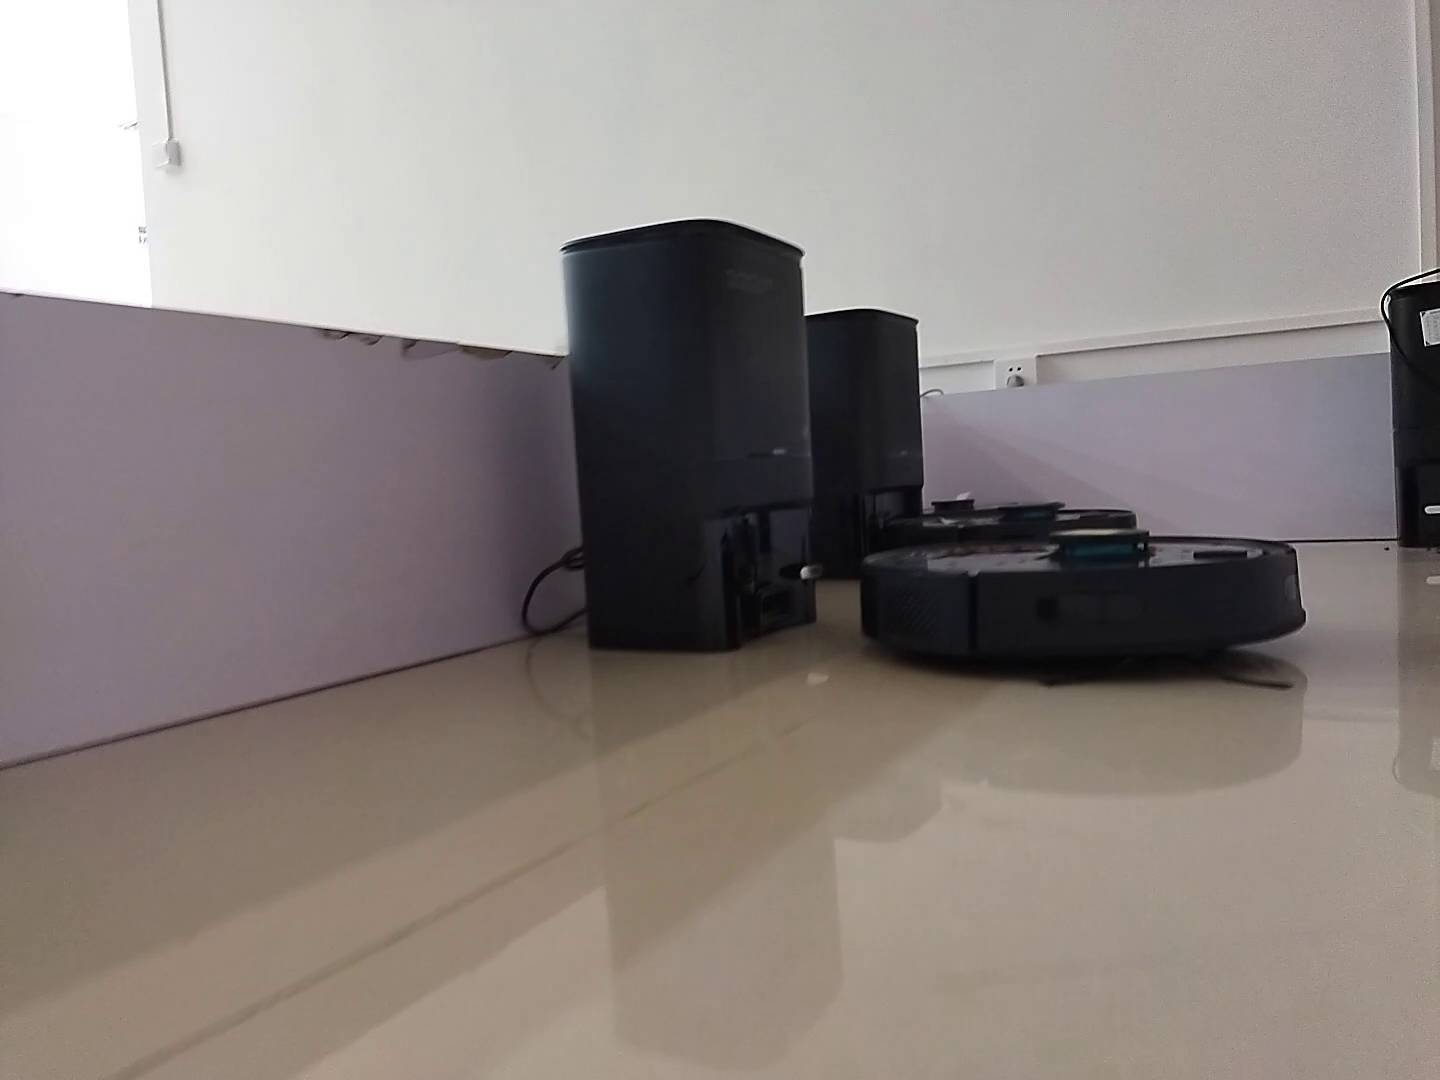dust collecting barrel: (562, 218, 827, 653), (806, 310, 927, 572)
